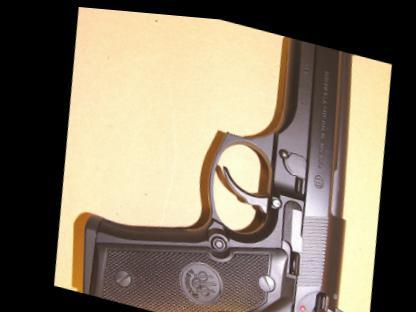pistol: (55, 3, 391, 311)
